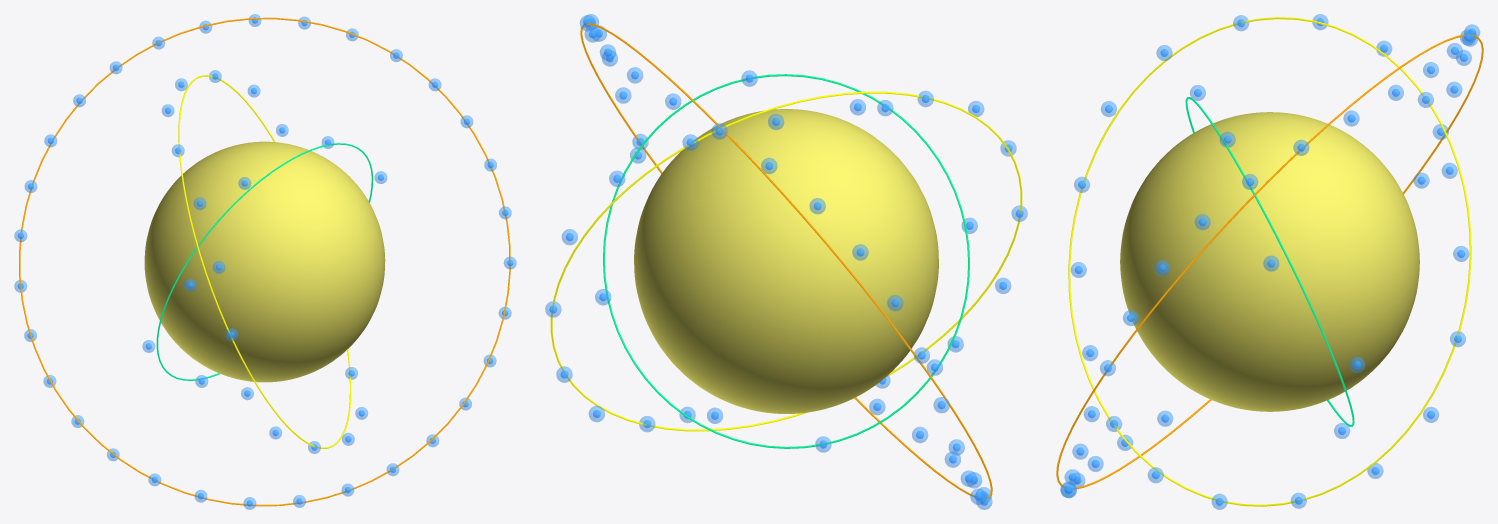
3 views of the same model, side by side, from view 1: azimuth 30°, elevation 25°; view 2: azimuth 150°, elevation 25°; view 3: azimuth 270°, elevation 25° (orthographic). The views are drawn at different scales.
Visible parts, largest first — view 1: Pr, object 61, object 24, object 7; view 2: Pr, object 7, object 24, object 61; view 3: Pr, object 24, object 61, object 7.
Part boxes in pixels (left/top/right/bottom): Pr: left=144, top=141, right=385, bottom=382; object 61: left=19, top=17, right=510, bottom=506; object 24: left=178, top=75, right=351, bottom=448; object 7: left=156, top=143, right=373, bottom=380; Pr: left=634, top=109, right=938, bottom=413; object 7: left=603, top=74, right=969, bottom=448; object 24: left=550, top=91, right=1022, bottom=431; object 61: left=580, top=23, right=992, bottom=498; Pr: left=1120, top=112, right=1419, bottom=411; object 24: left=1068, top=17, right=1471, bottom=506; object 61: left=1056, top=34, right=1483, bottom=489; object 7: left=1185, top=97, right=1354, bottom=426.
Bounding box in the file's own units: 5.37 × 5.11 × 4.2.
